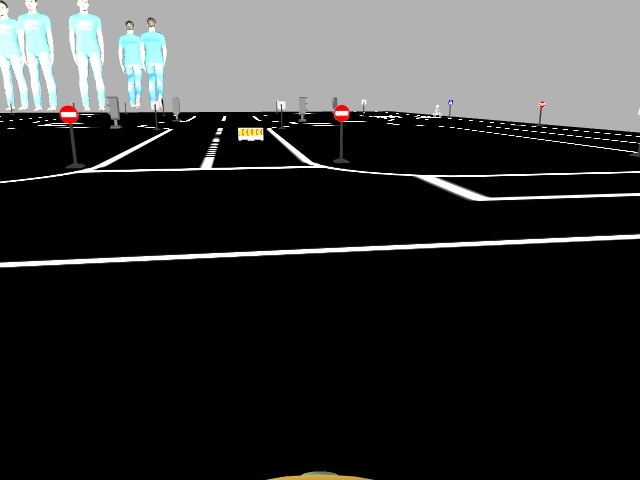ClosedRoadStand: (239, 126, 262, 140)
NoEntry: (59, 106, 79, 122), (334, 105, 350, 121)
